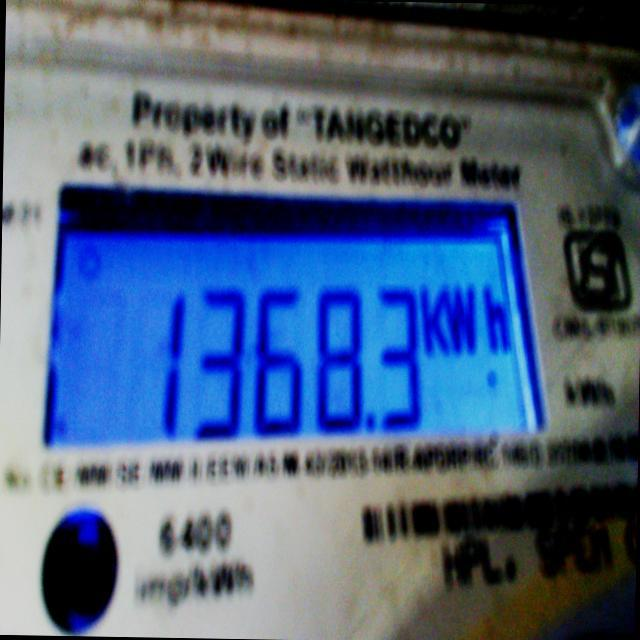LCD: (39, 180, 538, 453)
